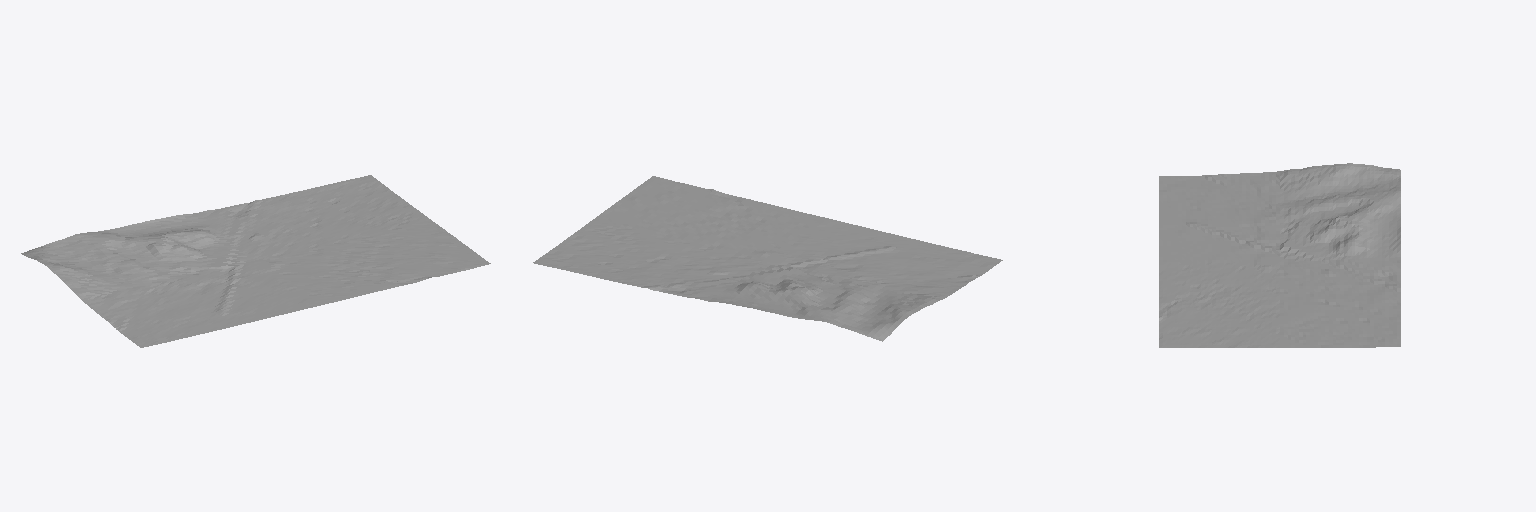
The model's file is badalona.obj.
3 renders of one model, left to right at view 1: azimuth 30°, elevation 25°; view 2: azimuth 150°, elevation 25°; view 3: azimuth 270°, elevation 25°, orthographic.
Visible parts, largest first — view 1: badalona_MetElipResi; view 2: badalona_MetElipResi; view 3: badalona_MetElipResi.
Boxes of the visible parts, <box> form: badalona_MetElipResi: <box>21,175,490,347</box>; badalona_MetElipResi: <box>533,176,1002,341</box>; badalona_MetElipResi: <box>1159,163,1400,347</box>.
Bounding box in the file's own units: 19.23 × 0.7536 × 11.46.